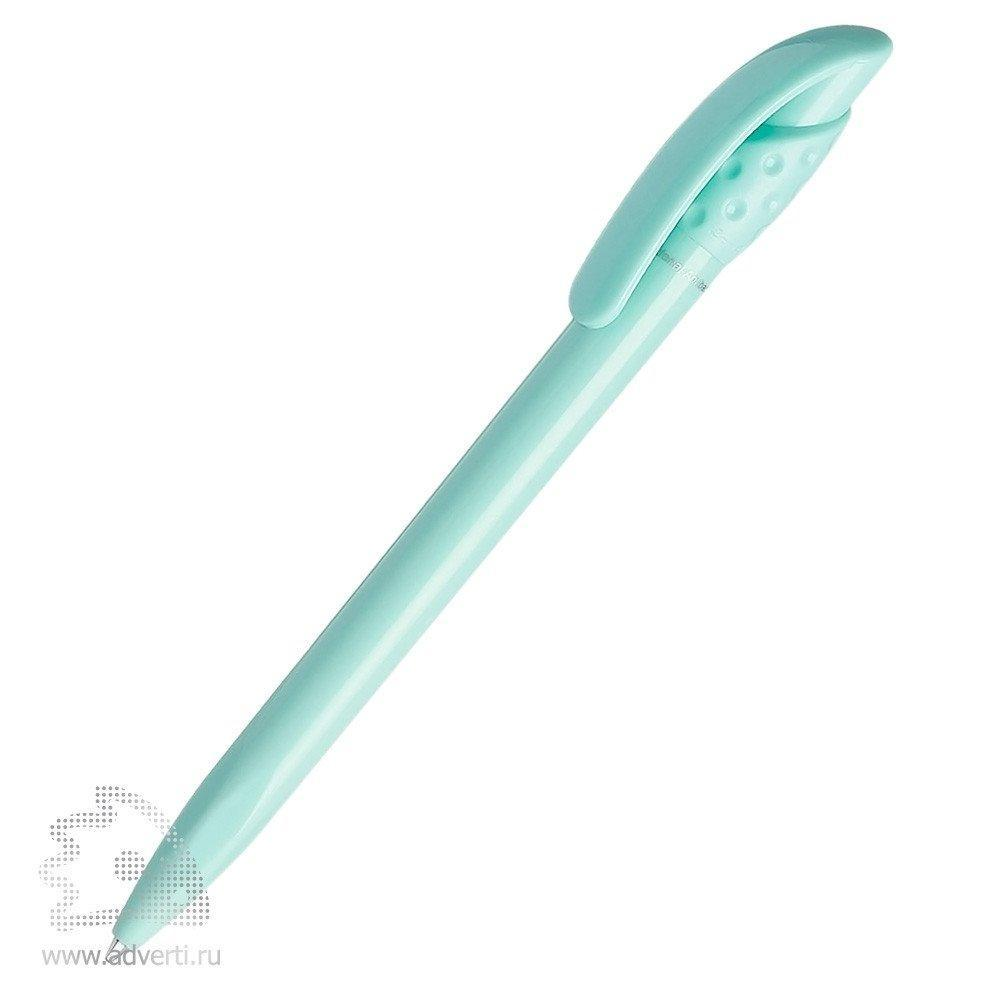pen-pencil: (111, 26, 891, 952)
